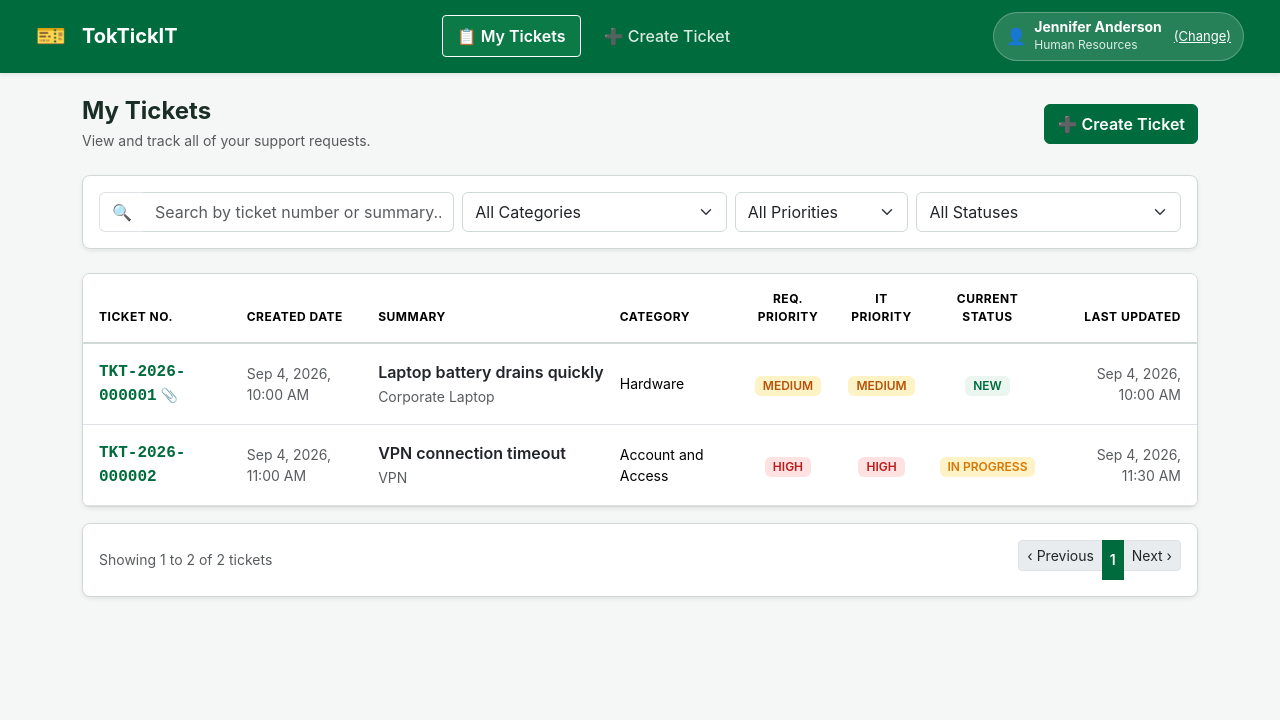
My Tickets Screen (List Mode) › renders no-results state when search/filter matches 0 tickets
The width and height of the screenshot is (1280, 720).
Expected: the text "Laptop battery drains quickly" is shown, [378,360,604,384]
Type in search
Type "nonexistentquery" into the field with test id "search-input" at (299, 212), box [143,192,454,232]
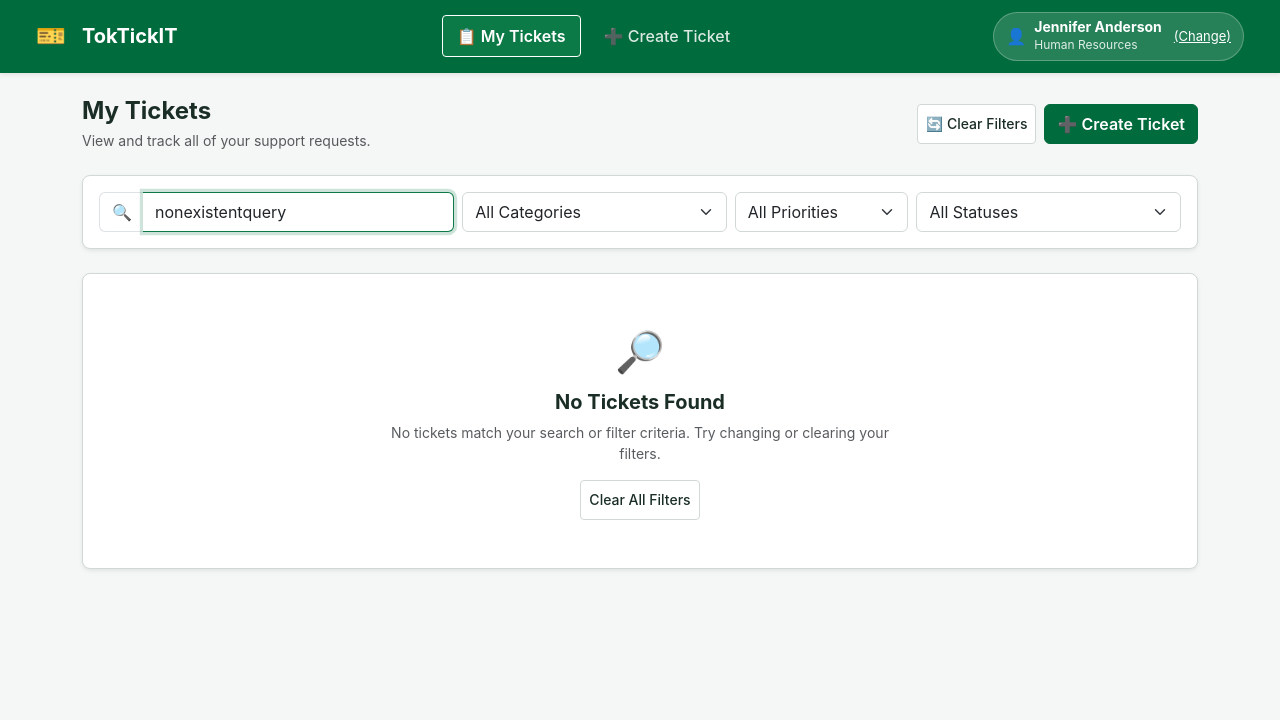
Expected: the element with test id "no-results-state" is shown, [82,273,1198,569]
Expected: the text "No tickets match your search or filter criteria" is shown, [391,424,889,462]
Expected: the button with test id "no-results-clear-btn" is shown, [580,480,700,520]
